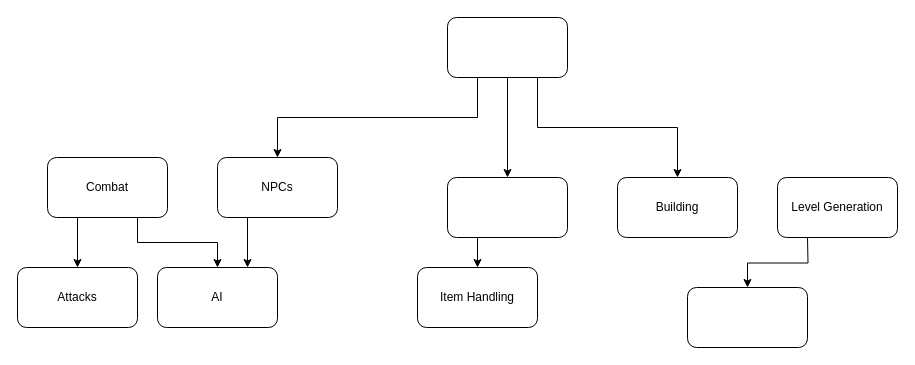
This 915x365 diagram has some shape labels left out. Here are the shapes that lost their labels. From the top down, the centre of each, then its label:
[507,47]: Town / Profession System
[507,207]: Crafting
[747,317]: Chunk Loading
